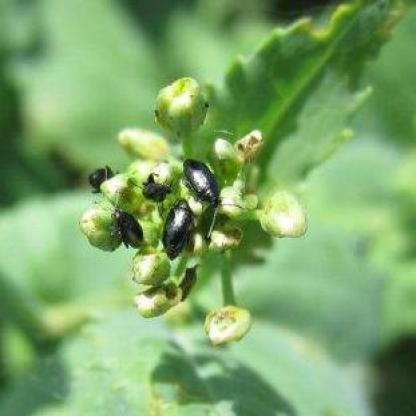beetle: (156, 191, 197, 254), (184, 158, 225, 216), (105, 210, 148, 248), (138, 174, 174, 203), (87, 162, 117, 189)
